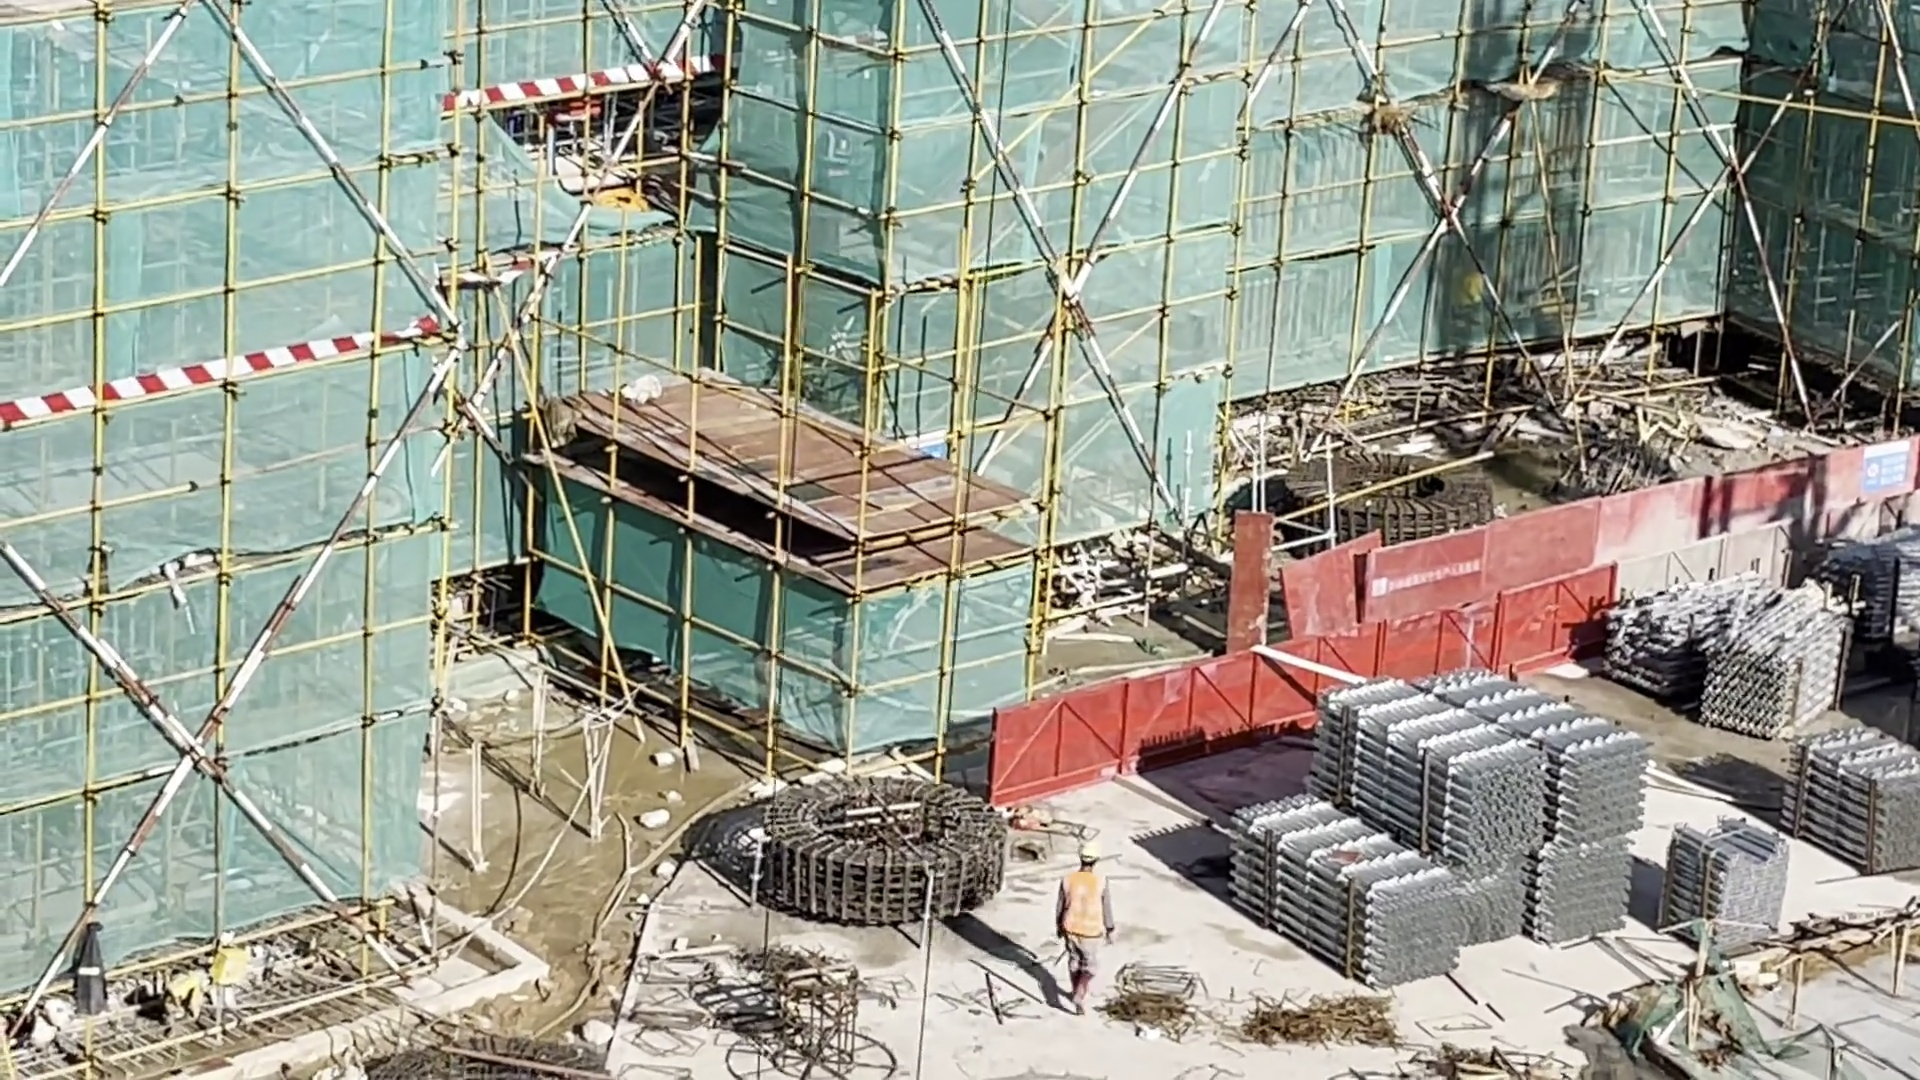fence: (995, 491, 1920, 802)
helmet: (1069, 835, 1107, 872)
person: (1047, 842, 1127, 1013)
scaffold: (1229, 668, 1647, 983), (1597, 568, 1871, 740), (1783, 724, 1920, 872), (1667, 811, 1783, 942)
vest: (1060, 870, 1110, 942)
